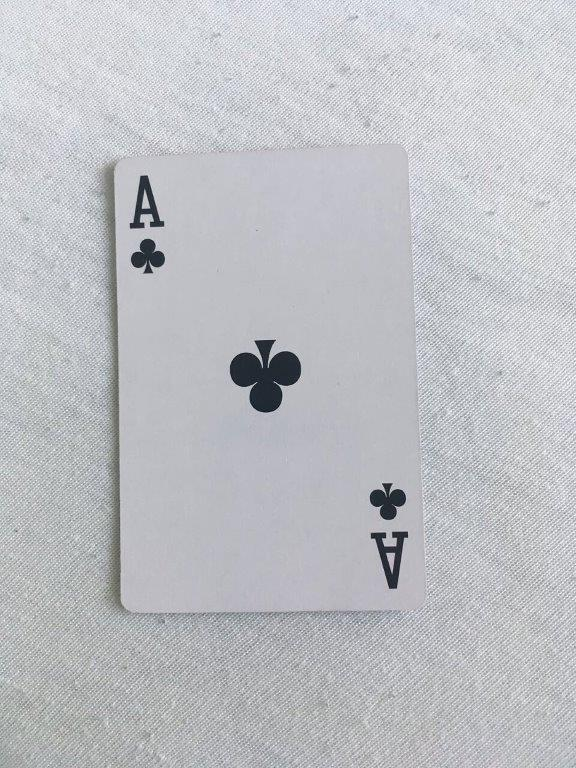AC: (111, 143, 430, 616)
